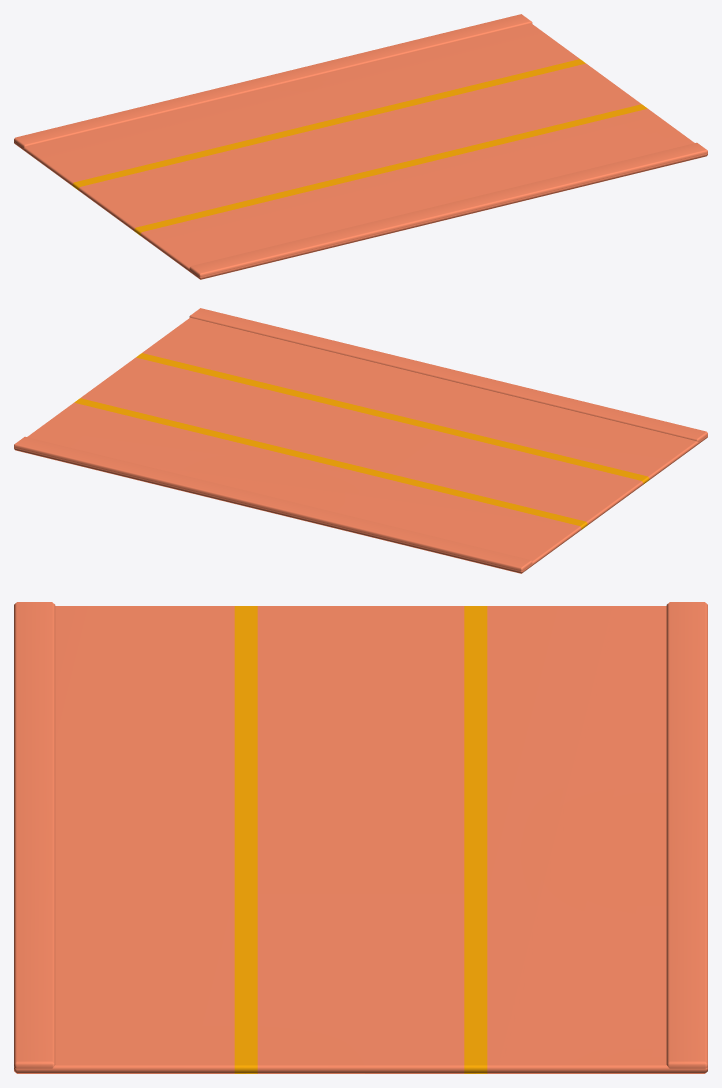
The model's file is Town_9_Roadway_1.glb.
3 views of the same model, one above another, from view 1: azimuth 30°, elevation 25°; view 2: azimuth 150°, elevation 25°; view 3: azimuth 270°, elevation 25° (orthographic). The views are drawn at different scales.
Parts seen in each view (by area): view 1: Town_9_Roadway_1; view 2: Town_9_Roadway_1; view 3: Town_9_Roadway_1.
Part boxes in pixels (<box>): Town_9_Roadway_1: <box>14,14,707,279</box>; Town_9_Roadway_1: <box>14,308,707,573</box>; Town_9_Roadway_1: <box>14,602,707,1073</box>.
Bounding box in the file's own units: 17.62 × 0.2266 × 11.2.
1 material, 1 textured.
